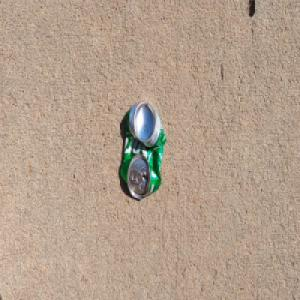SodaCan: (119, 99, 166, 201)
